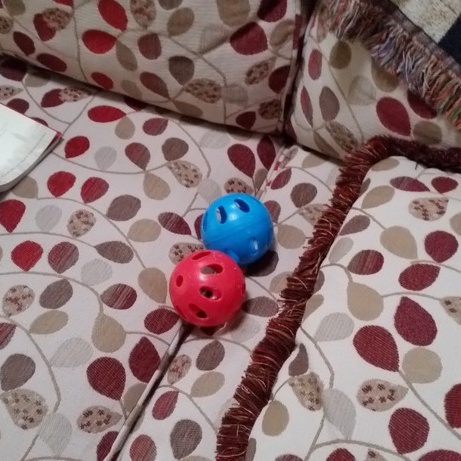ball: (160, 246, 252, 331), (196, 186, 280, 268)
